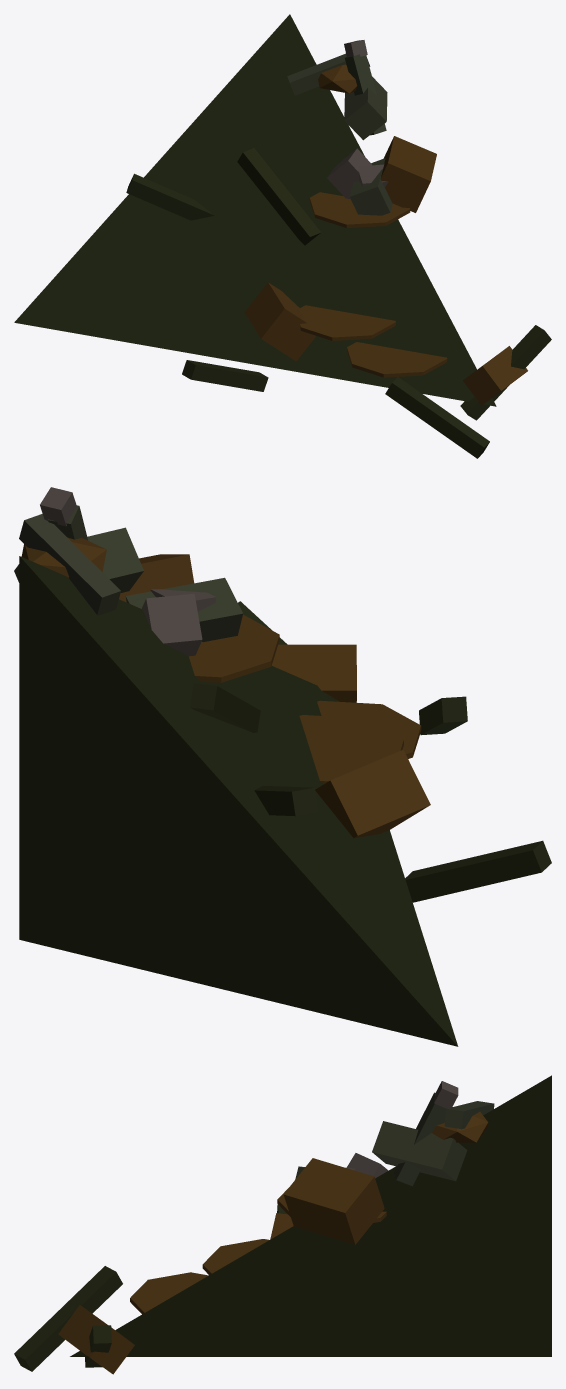
The model's file is SM_PilaZombi_RemateIzq_Altura4_s1_LOD1.fbx.
3 views of the same model, one above another, from view 1: azimuth 30°, elevation 25°; view 2: azimuth 150°, elevation 25°; view 3: azimuth 270°, elevation 25° (orthographic). The views are drawn at different scales.
Visible parts, largest first — view 1: SM_pila_zombis_v8_LOD1; view 2: SM_pila_zombis_v8_LOD1; view 3: SM_pila_zombis_v8_LOD1.
Part boxes in pixels (left/top/right/bottom): SM_pila_zombis_v8_LOD1: left=14, top=14, right=551, bottom=458; SM_pila_zombis_v8_LOD1: left=14, top=487, right=551, bottom=1046; SM_pila_zombis_v8_LOD1: left=14, top=1075, right=551, bottom=1374.
Size of the model in its own units: 3.04 by 2.3 by 3.55.
